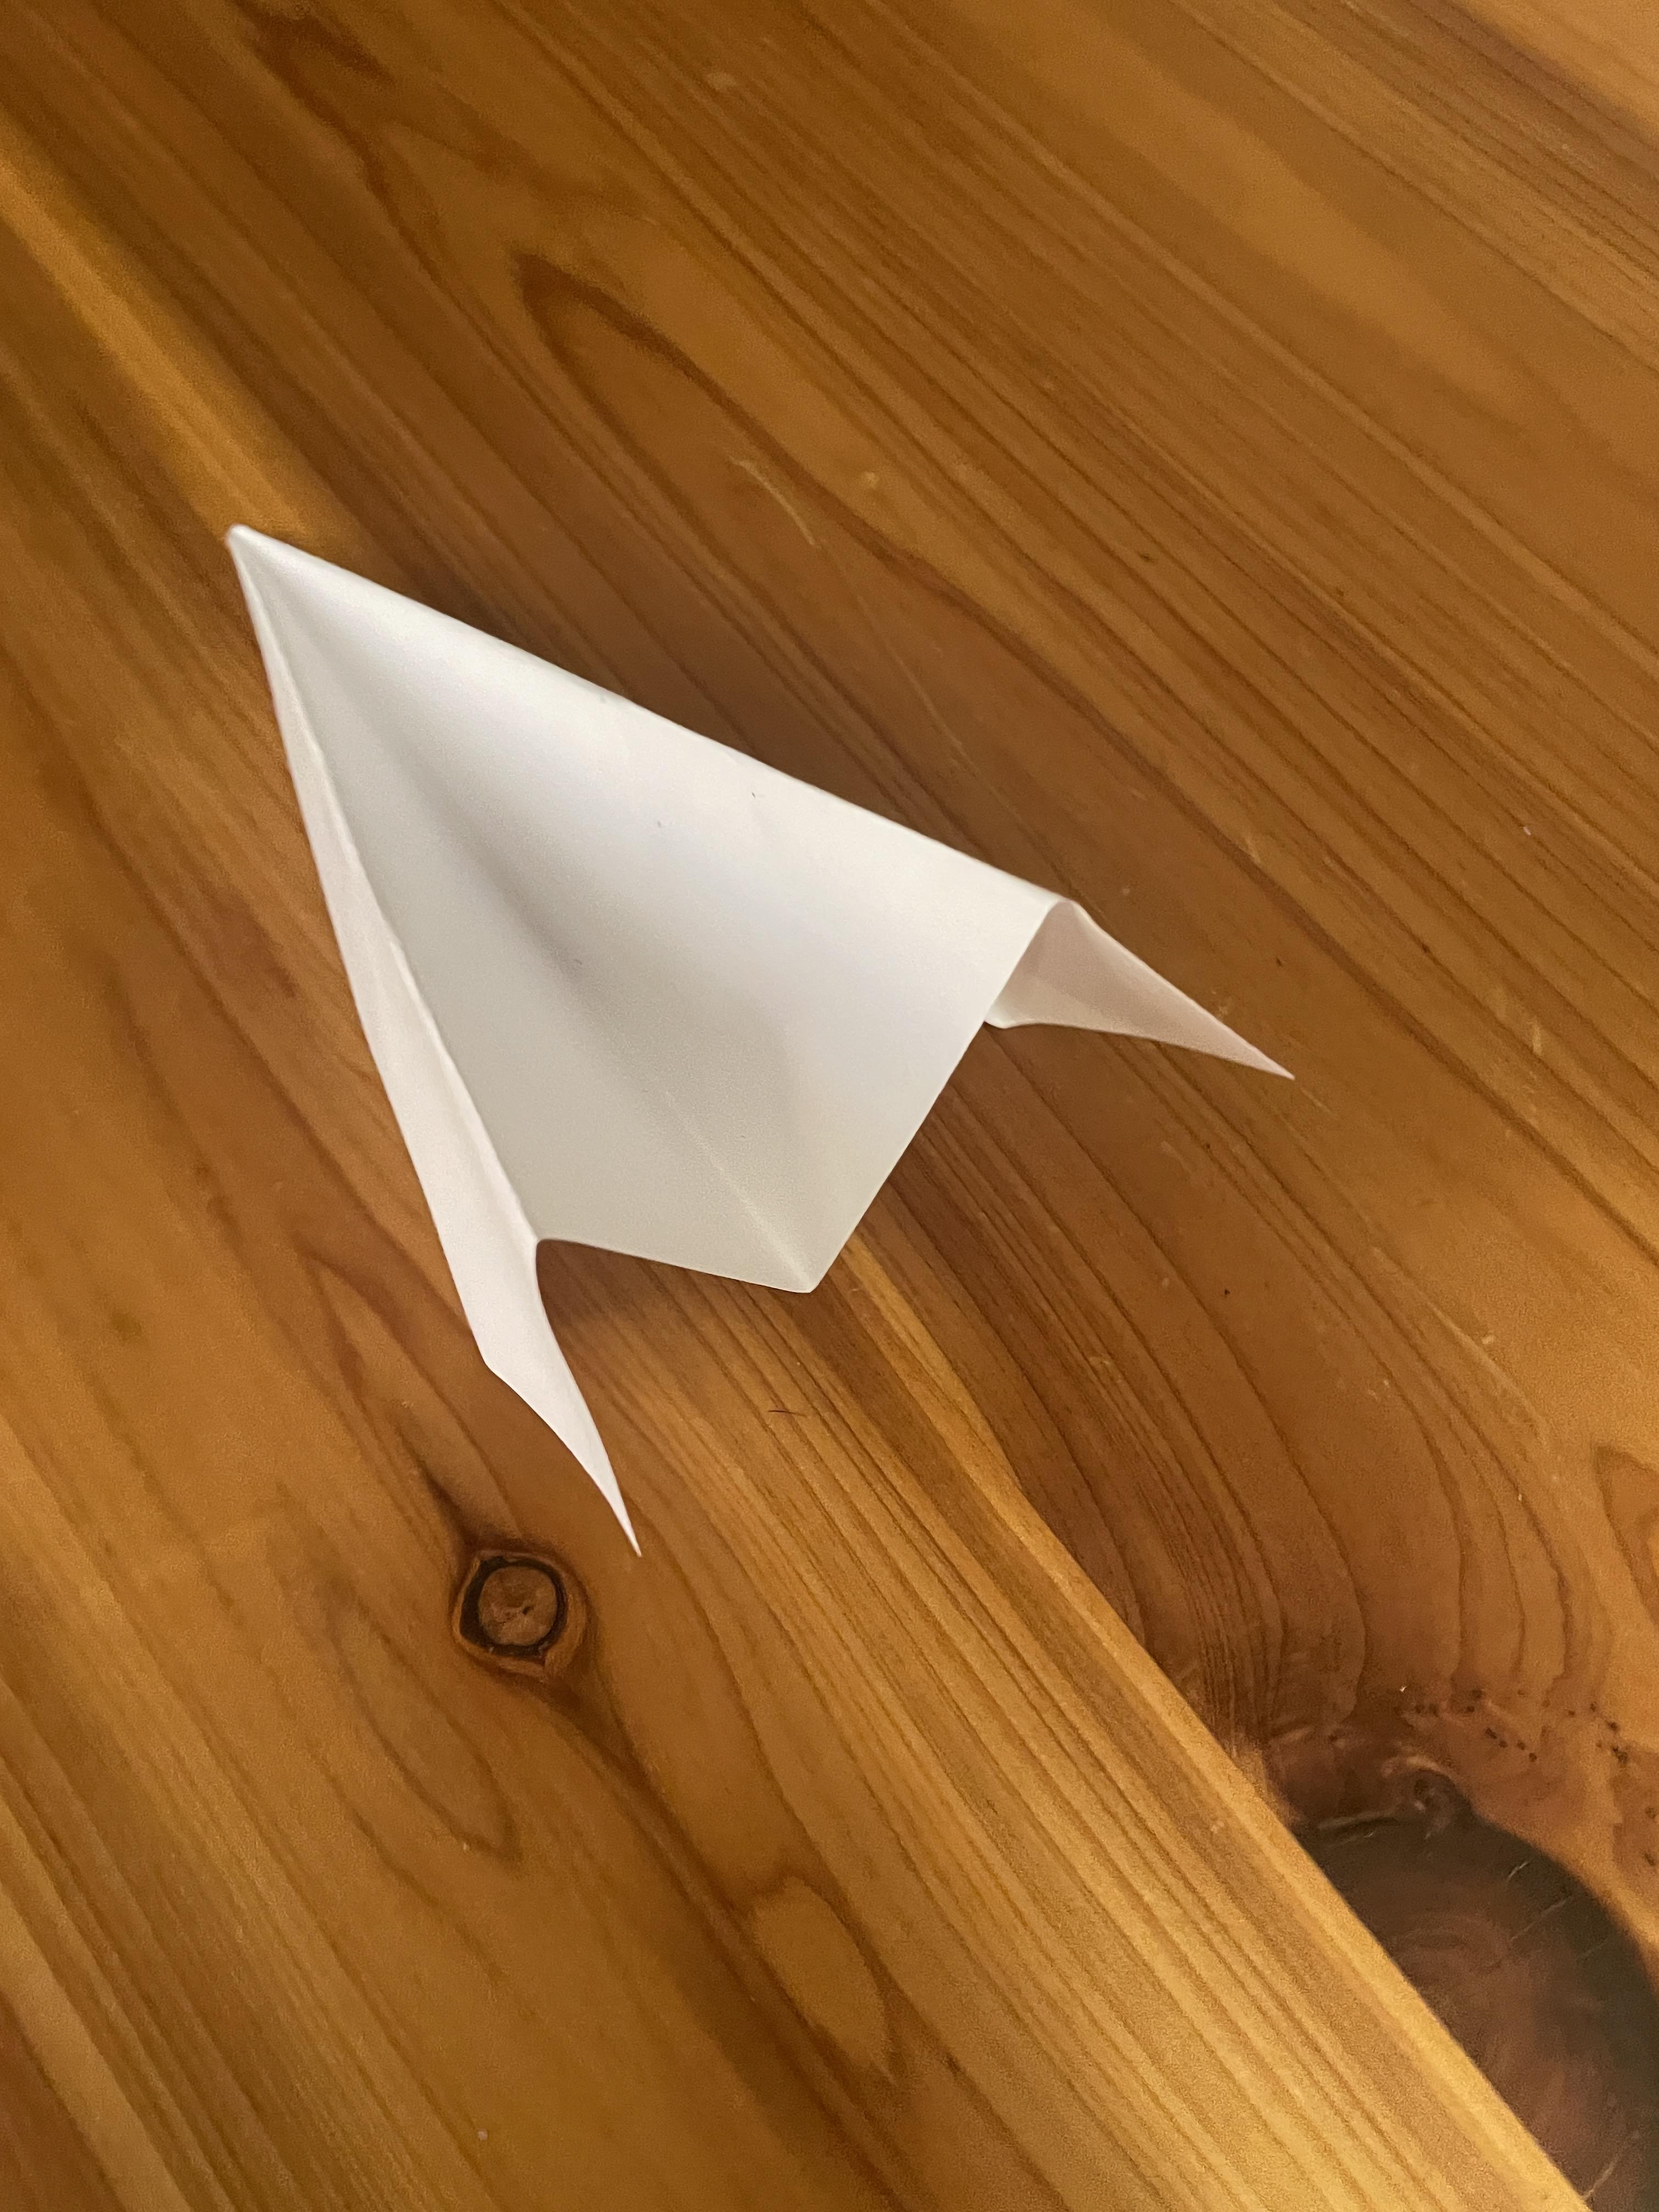shape_3: (71, 347, 1391, 1792)
